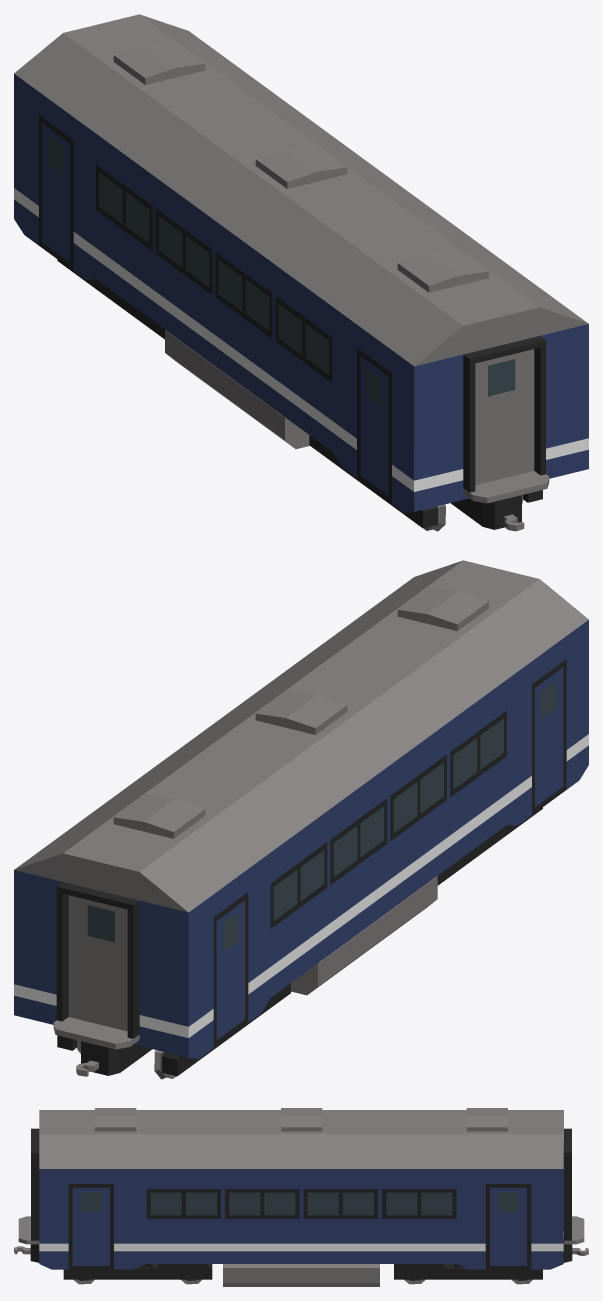
The model's file is vehicles_train-passenger-wagon.fbx.
3 renders of one model, top to bottom at view 1: azimuth 30°, elevation 25°; view 2: azimuth 150°, elevation 25°; view 3: azimuth 270°, elevation 25°, orthographic. The views are drawn at different scales.
Parts seen in each view (by area): view 1: train_passenger_wagon_base, train_passenger_wagon_wheel_frame_F, train_passenger_wagon_wheel_frame_B; view 2: train_passenger_wagon_base, train_passenger_wagon_wheel_frame_B, train_passenger_wagon_wheel_frame_F; view 3: train_passenger_wagon_base, train_passenger_wagon_wheel_frame_F, train_passenger_wagon_wheel_frame_B.
Boxes of the visible parts, box(x1,y1,x2,y2) form: train_passenger_wagon_base: box(14, 14, 588, 531); train_passenger_wagon_wheel_frame_F: box(309, 435, 542, 528); train_passenger_wagon_wheel_frame_B: box(57, 259, 164, 339); train_passenger_wagon_base: box(14, 560, 588, 1076); train_passenger_wagon_wheel_frame_B: box(57, 983, 290, 1076); train_passenger_wagon_wheel_frame_F: box(437, 807, 542, 885); train_passenger_wagon_base: box(14, 1108, 588, 1286); train_passenger_wagon_wheel_frame_F: box(63, 1264, 212, 1279); train_passenger_wagon_wheel_frame_B: box(394, 1264, 542, 1279).
Size of the model in its own units: 45.99 by 59.91 by 200.
